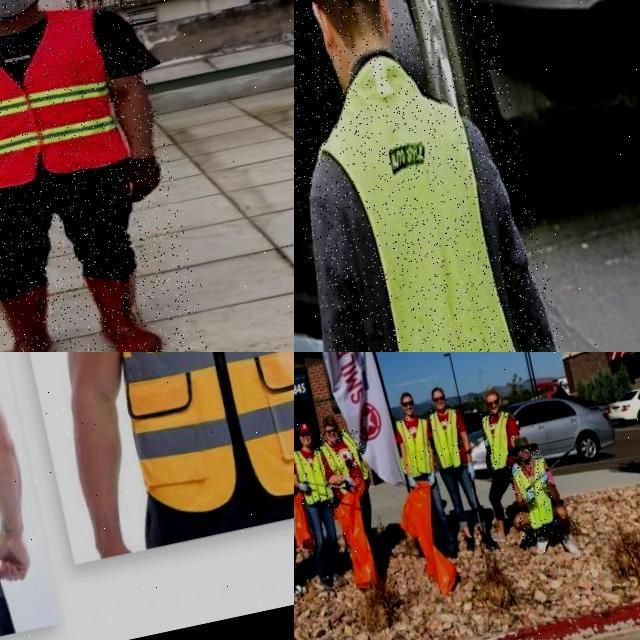boots: (75, 258, 167, 352), (0, 282, 66, 352)
vest: (297, 57, 541, 352), (64, 352, 294, 531), (0, 3, 129, 195), (503, 445, 561, 543), (392, 408, 452, 478), (318, 422, 372, 497), (294, 442, 340, 512), (478, 404, 522, 471), (422, 411, 467, 472)
